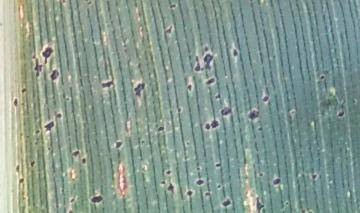tarspot: (201, 42, 216, 73), (29, 53, 44, 81), (131, 79, 148, 102), (40, 42, 54, 65), (87, 192, 107, 206), (46, 66, 62, 83), (42, 119, 59, 135), (204, 119, 221, 134), (229, 43, 243, 60), (99, 77, 117, 90), (246, 106, 259, 123), (184, 75, 195, 95), (192, 54, 204, 72), (254, 195, 265, 213), (111, 139, 126, 152), (163, 23, 175, 39), (202, 76, 219, 87), (220, 195, 233, 209), (219, 106, 234, 117), (335, 108, 347, 121), (270, 175, 283, 187), (213, 159, 225, 172), (309, 170, 320, 184), (192, 177, 206, 187), (260, 93, 271, 105), (168, 1, 177, 15), (28, 159, 38, 170), (167, 182, 177, 193), (256, 168, 267, 178), (213, 92, 225, 101), (13, 162, 22, 174), (193, 166, 206, 174), (54, 110, 64, 120), (165, 167, 175, 177), (351, 97, 360, 108), (175, 105, 186, 114), (185, 189, 196, 198), (63, 93, 71, 105), (202, 189, 214, 197), (156, 125, 166, 134), (256, 124, 266, 133), (12, 97, 20, 108), (34, 127, 42, 138), (78, 157, 89, 165), (18, 176, 27, 185), (158, 178, 166, 188), (20, 86, 28, 95), (317, 73, 326, 81), (72, 149, 80, 158), (215, 182, 223, 190)
